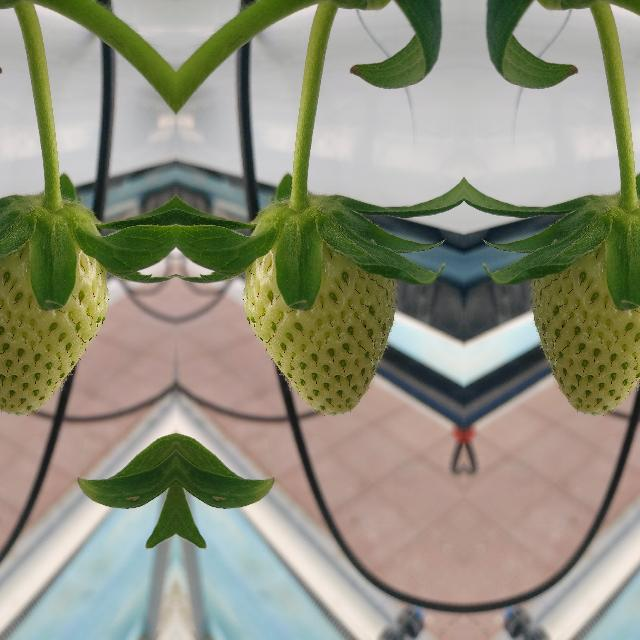Health_25: (240, 239, 398, 417), (528, 239, 640, 417), (0, 239, 110, 417)
